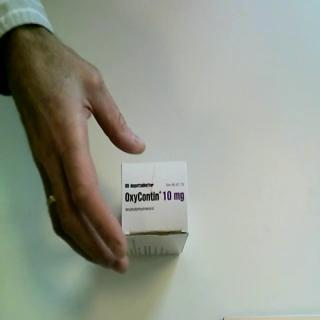oxynorm10mg: (119, 160, 191, 261)
